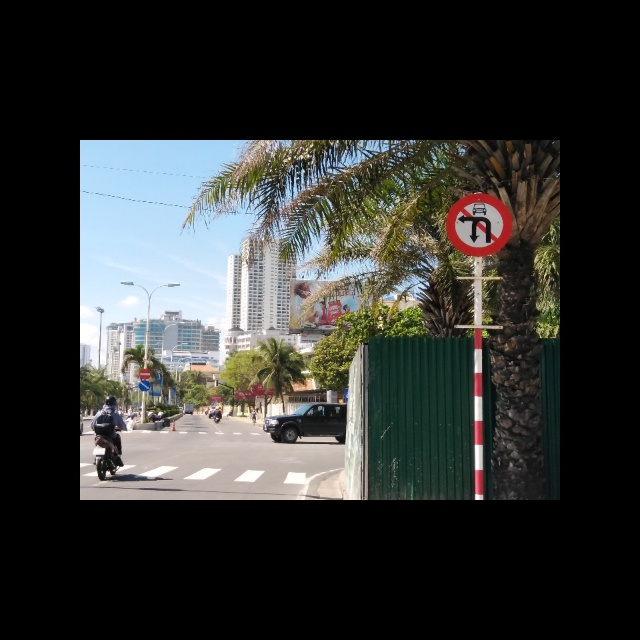Cấm xe ô tô quay đầu và rẽ trái: (444, 190, 514, 258)
